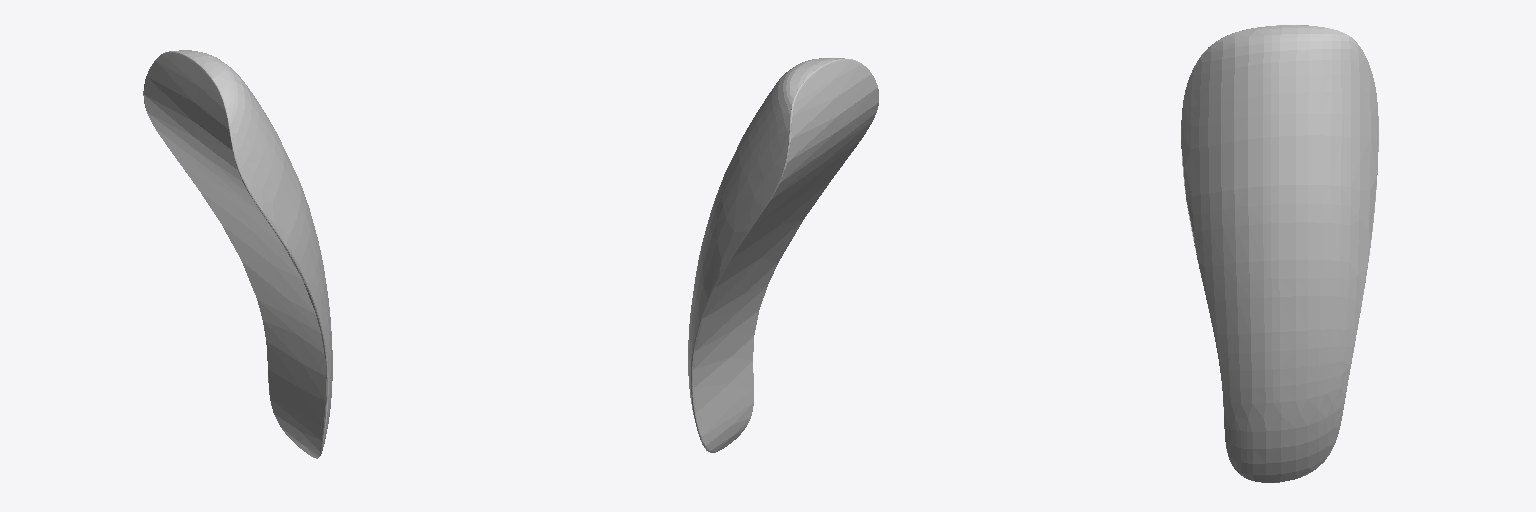
The model's file is arm_left.obj.
3 renders of one model, left to right at view 1: azimuth 30°, elevation 25°; view 2: azimuth 150°, elevation 25°; view 3: azimuth 270°, elevation 25°, orthographic.
Visible parts, largest first — view 1: MeshBody4; view 2: MeshBody4; view 3: MeshBody4.
Part boxes in pixels (x1,y1,x2,y2): MeshBody4: (143, 50, 332, 458); MeshBody4: (688, 58, 878, 452); MeshBody4: (1181, 25, 1378, 482).
Bounding box in the file's own units: 11.3 × 33.08 × 14.49.